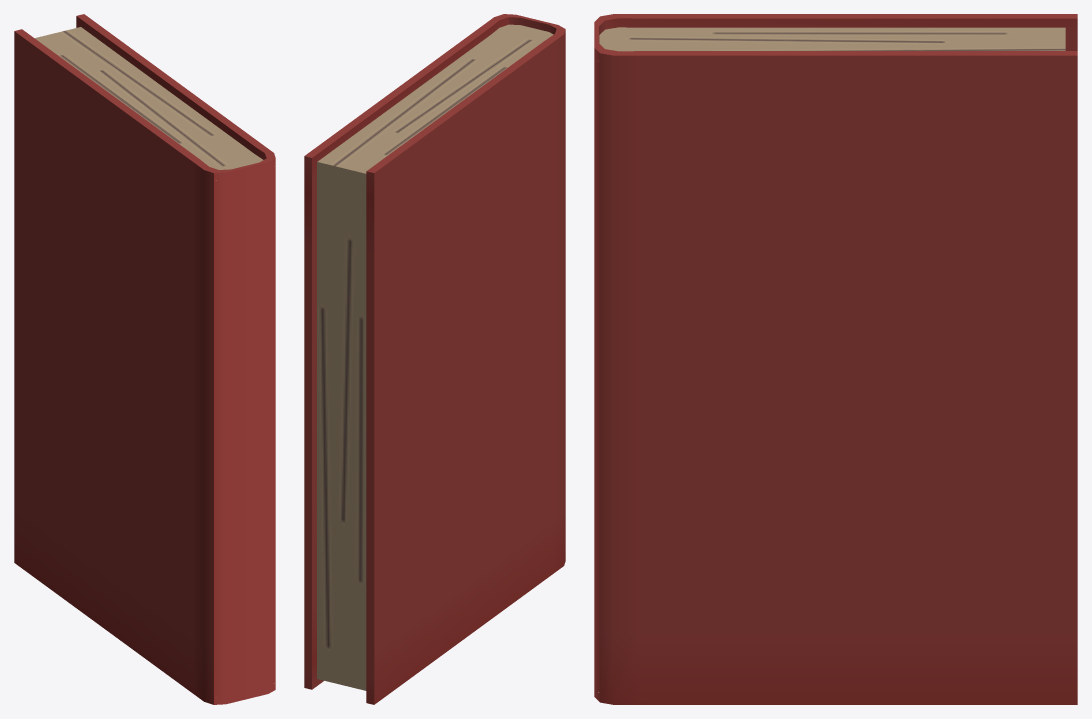
Rendered from Mesh_Room_Book_03_SM.fbx.
3 renders of one model, left to right at view 1: azimuth 30°, elevation 25°; view 2: azimuth 150°, elevation 25°; view 3: azimuth 270°, elevation 25°, orthographic. The views are drawn at different scales.
Parts seen in each view (by area): view 1: Mesh_Room_Book_03; view 2: Mesh_Room_Book_03; view 3: Mesh_Room_Book_03.
Part boxes in pixels (<box>): Mesh_Room_Book_03: <box>14,14,275,704</box>; Mesh_Room_Book_03: <box>304,14,565,704</box>; Mesh_Room_Book_03: <box>594,14,1077,704</box>.
Bounding box in the file's own units: 4.06 × 29.5 × 19.9.
